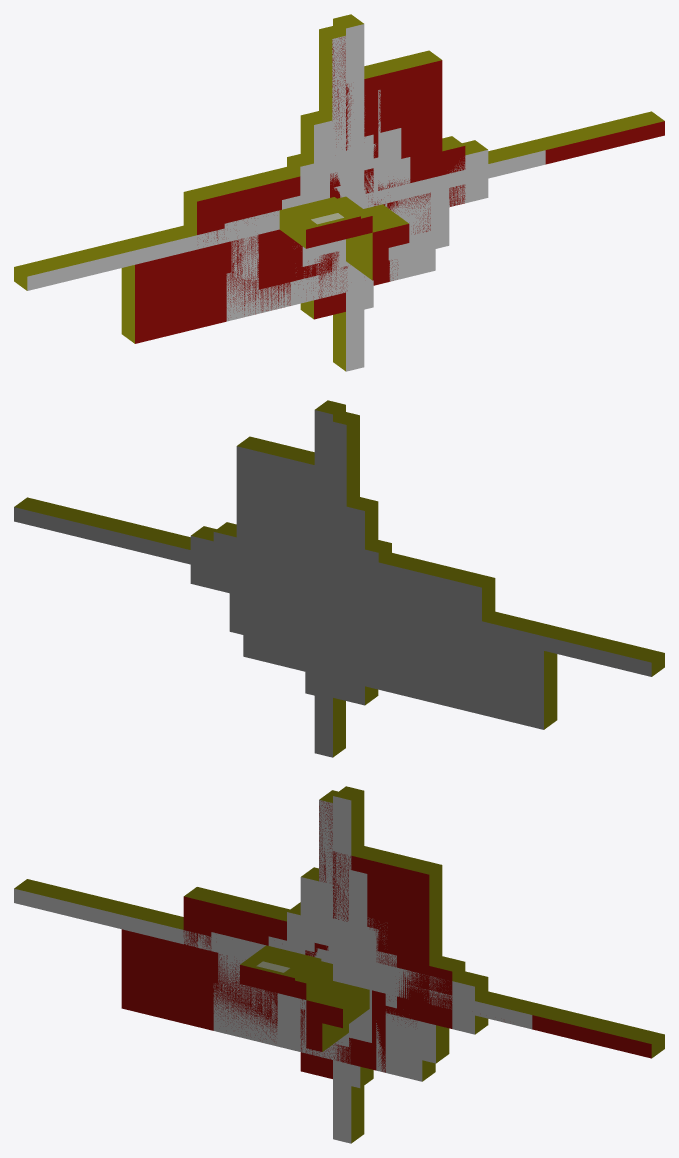
File: idf.obj
The picture shows the model from 3 angles, top to bottom: view 1: azimuth 30°, elevation 25°; view 2: azimuth 150°, elevation 25°; view 3: azimuth 330°, elevation 25°; orthographic projection.
Bounding box in the file's own units: 84.73 × 43.59 × 9.14.
